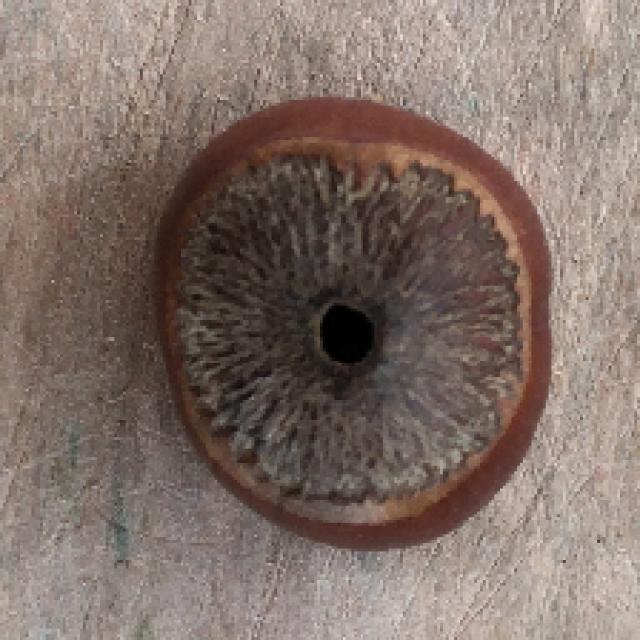damagedHazelnut: (150, 95, 552, 559)
